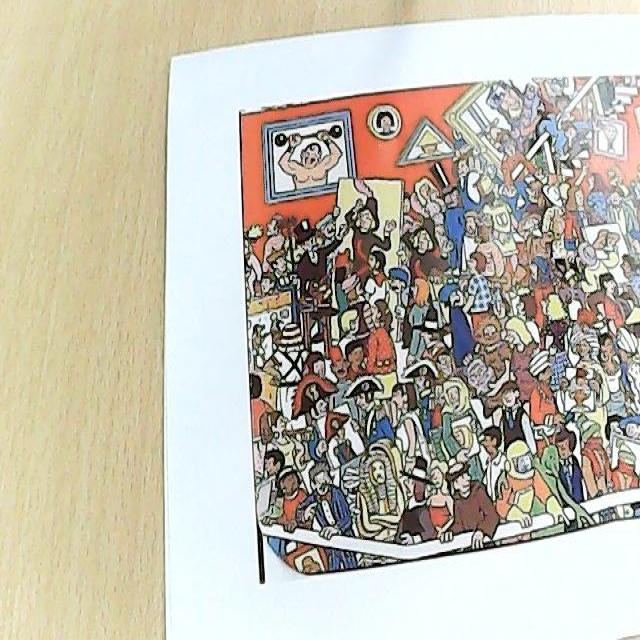waldo: (428, 341, 453, 379)
